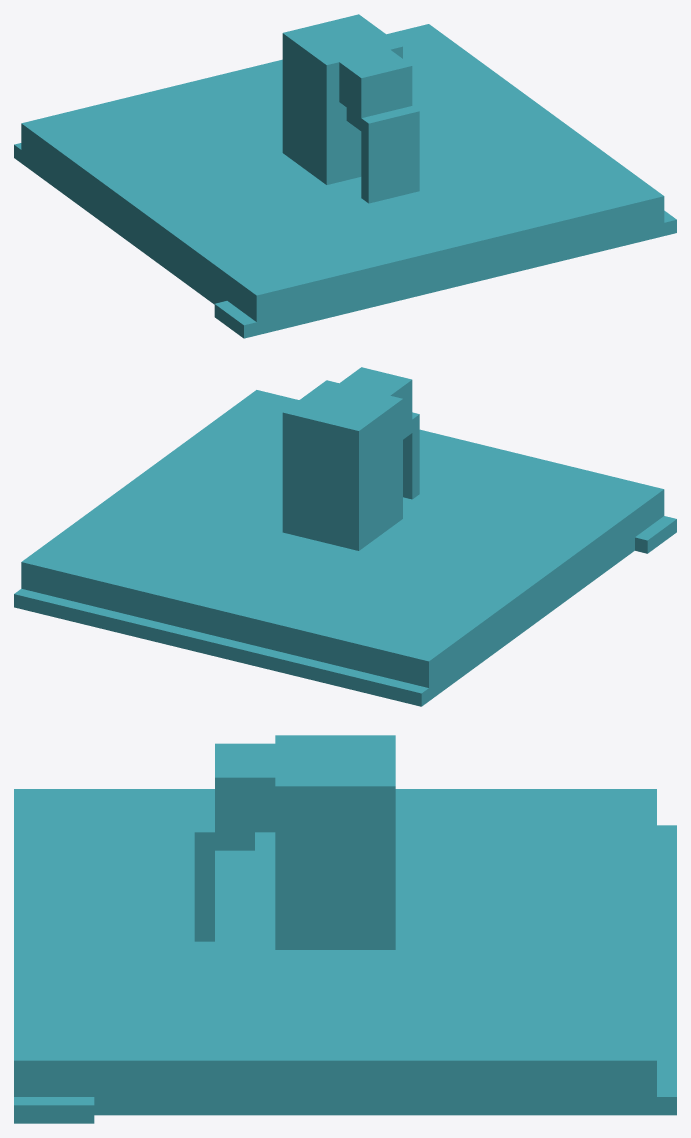
Rendered from FountainSquareWater.fbx.
3 views of the same model, one above another, from view 1: azimuth 30°, elevation 25°; view 2: azimuth 150°, elevation 25°; view 3: azimuth 270°, elevation 25° (orthographic). The views are drawn at different scales.
Parts seen in each view (by area): view 1: FountainSquareWater; view 2: FountainSquareWater; view 3: FountainSquareWater.
Part boxes in pixels (x1=…): FountainSquareWater: x1=14, y1=14, x2=676, y2=338; FountainSquareWater: x1=14, y1=367, x2=676, y2=706; FountainSquareWater: x1=14, y1=735, x2=676, y2=1123.
Bounding box in the file's own units: 340 × 120 × 330.
